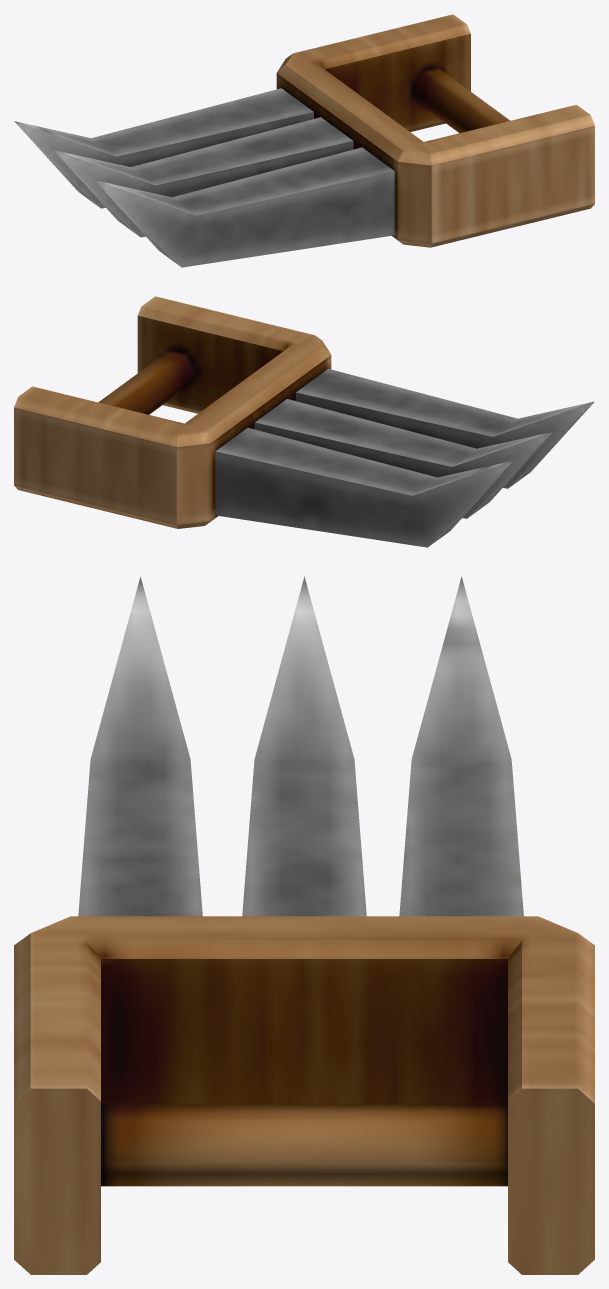
The model's file is claw001.fbx.
3 renders of one model, top to bottom at view 1: azimuth 30°, elevation 25°; view 2: azimuth 150°, elevation 25°; view 3: azimuth 270°, elevation 25°, orthographic. The views are drawn at different scales.
Visible parts, largest first — view 1: claw001; view 2: claw001; view 3: claw001.
Part boxes in pixels (bbox=[...]): claw001: bbox=[14, 14, 594, 267]; claw001: bbox=[14, 296, 594, 547]; claw001: bbox=[14, 576, 594, 1274].
Size of the model in its own units: 0.262 by 0.0655 by 0.1414.
